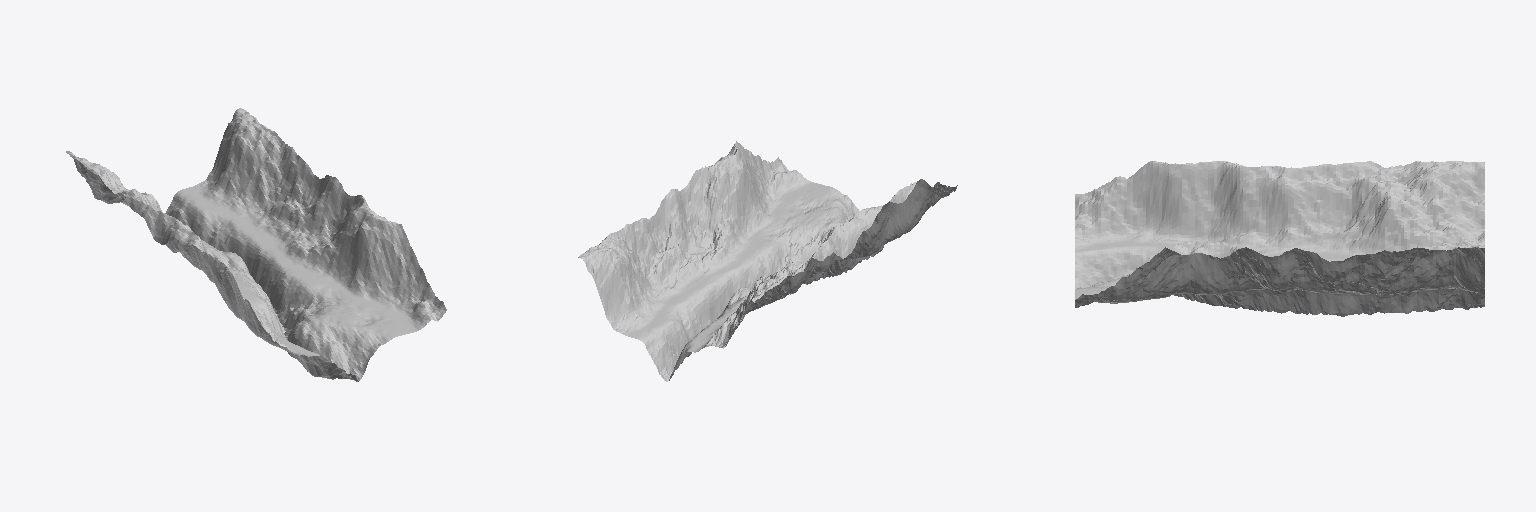
File: terrain.obj
3 views of the same model, side by side, from view 1: azimuth 30°, elevation 25°; view 2: azimuth 150°, elevation 25°; view 3: azimuth 270°, elevation 25° (orthographic).
Visible parts, largest first — view 1: Landscape.003; view 2: Landscape.003; view 3: Landscape.003.
Boxes of the visible parts, x1,y1,x2,y2 form: Landscape.003: [66, 108, 446, 381]; Landscape.003: [578, 141, 957, 381]; Landscape.003: [1075, 161, 1484, 316].
Size of the model in its own units: 20 by 11.25 by 40.